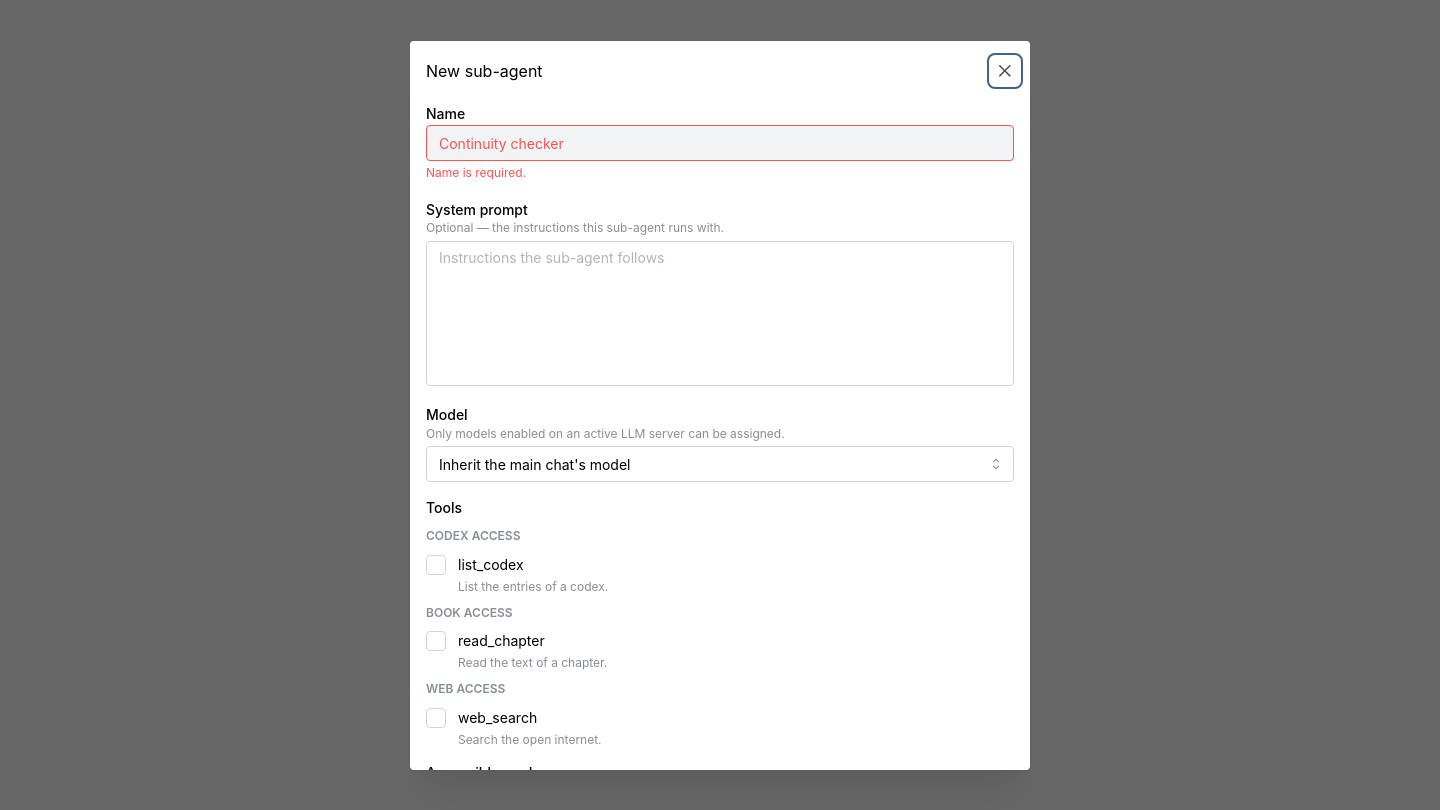
the picker offers models from ACTIVE servers only (DoD-6) › DoD-6: the opened picker shows the active servers' models and NOT the inactive server's
Click the field labelled "Model".
click(720, 464)  # box left=426, top=446, right=1014, bottom=482
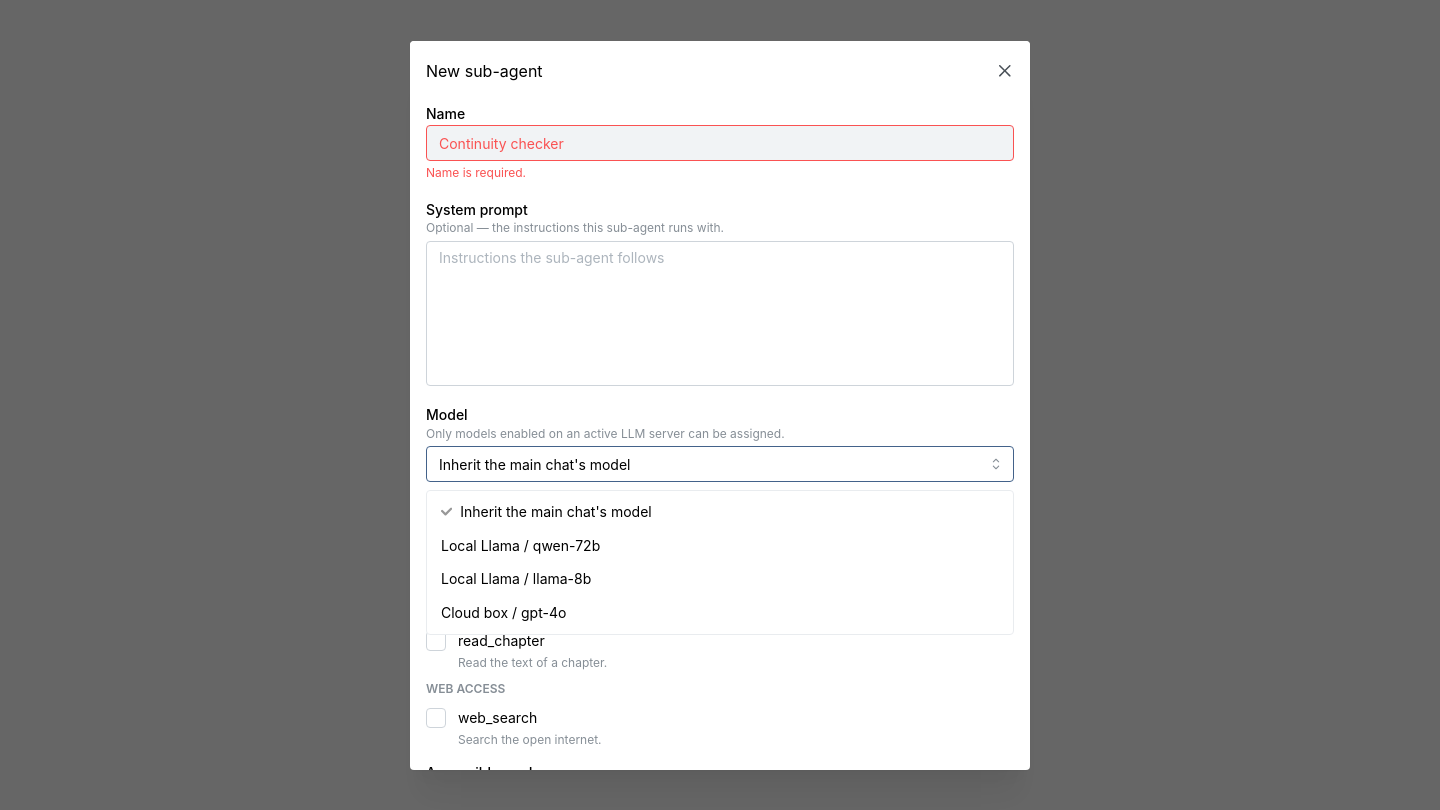
Result: the text "Inherit the main chat's model" is shown at left=460, top=501, right=652, bottom=523
